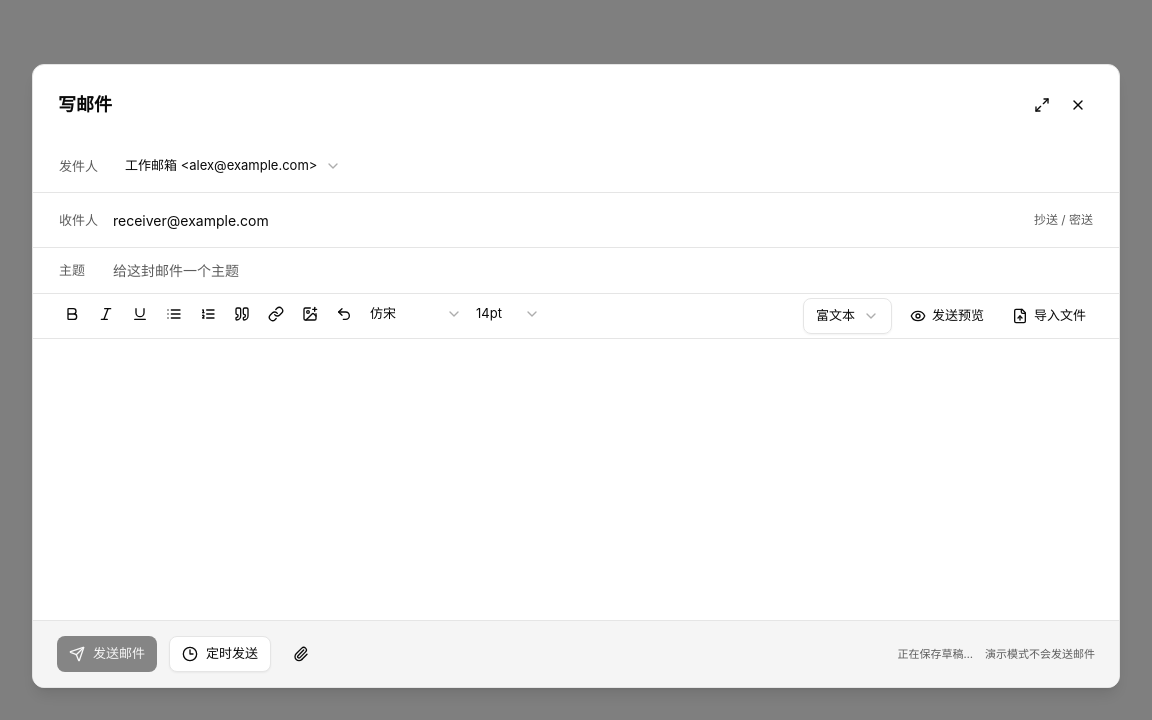
Scenario: uses a shadcn confirmation for an empty subject and cancellation keeps the draft
Expected: the field named "邮件正文" is shown, 33,339 -> 1119,539
Click the button "定时发送". click: [220, 654]
box: 169,636 -> 271,672
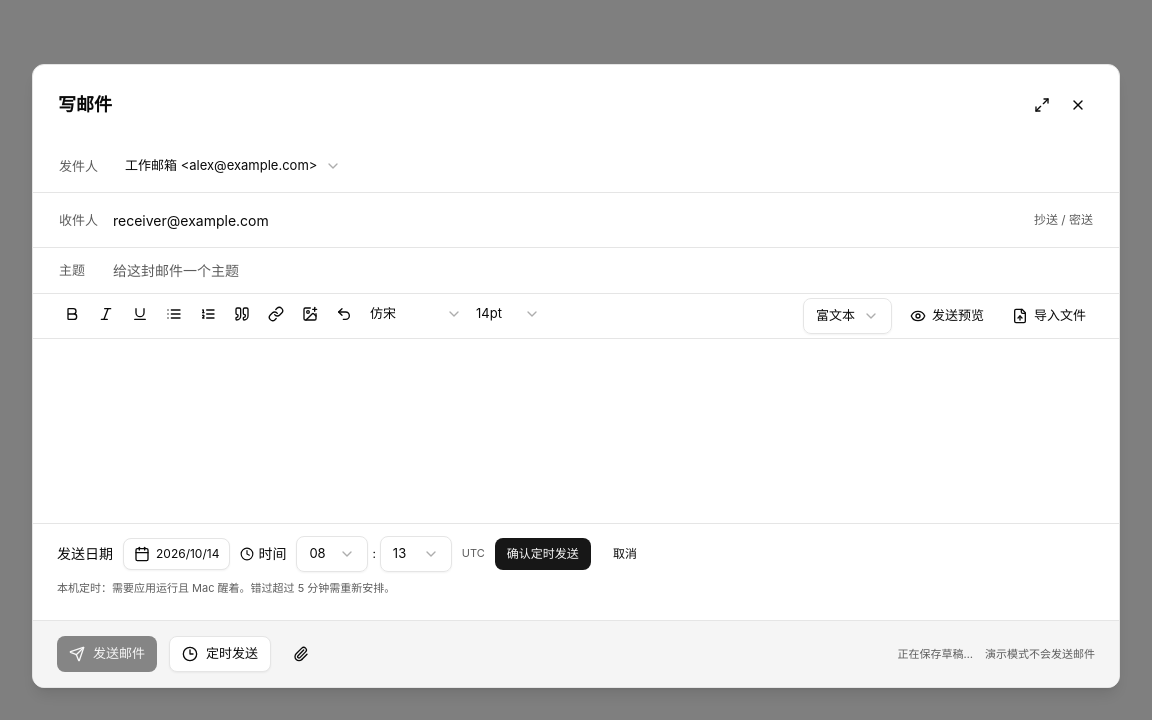
Result: the button "确认定时发送" is shown
Click the button "确认定时发送". click: [543, 554]
box: 495,538 -> 591,570
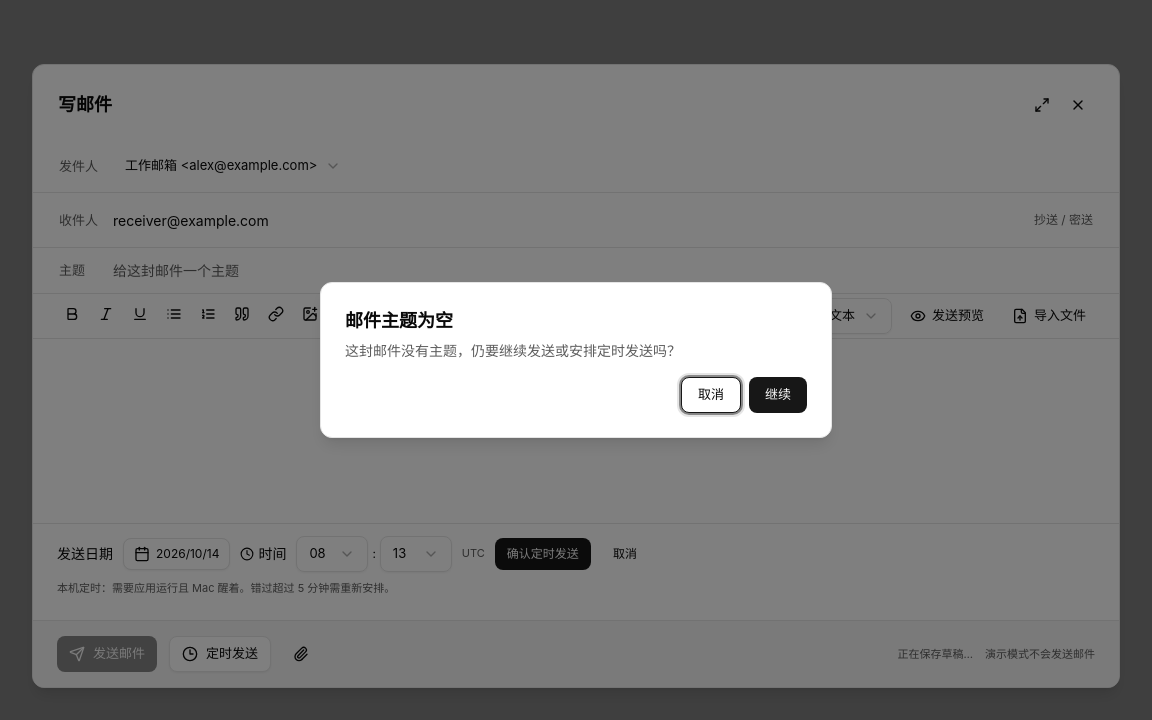
Result: the dialog "邮件主题为空 这封邮件没有主题，仍要继续发送或安排定时发送吗？ 取消 继续" is shown at 320,282 -> 832,438
Click the button "取消". click: [711, 395]
box: 681,377 -> 741,413
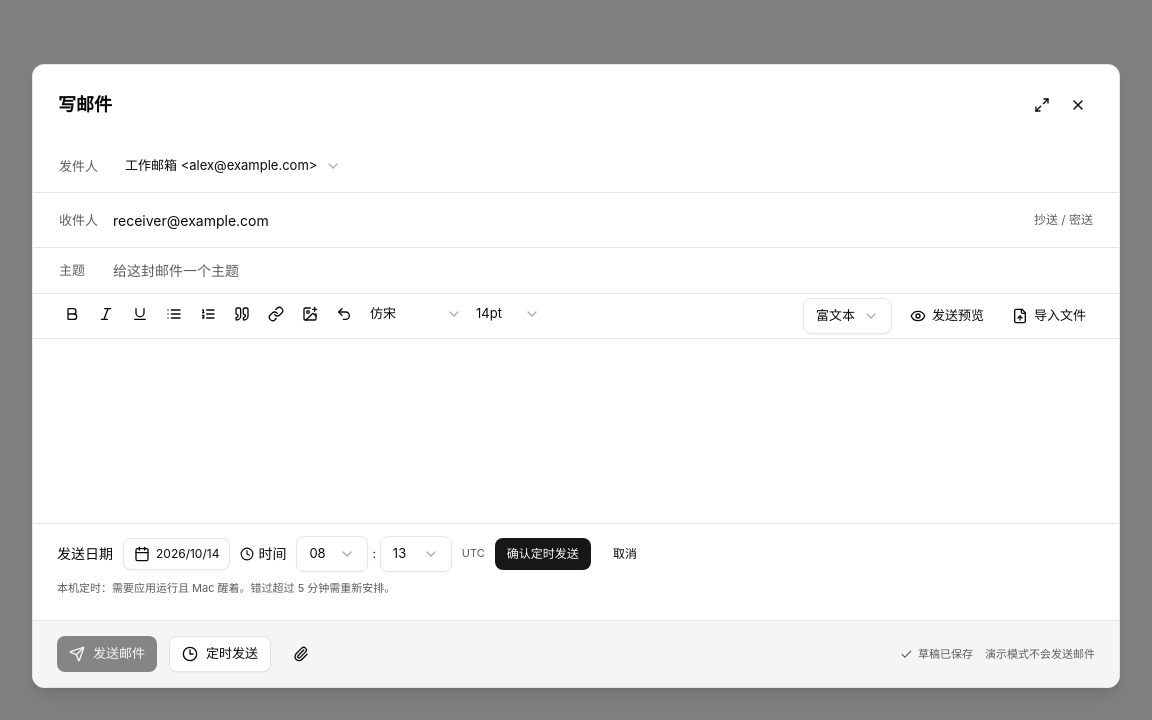
Result: the dialog is gone
